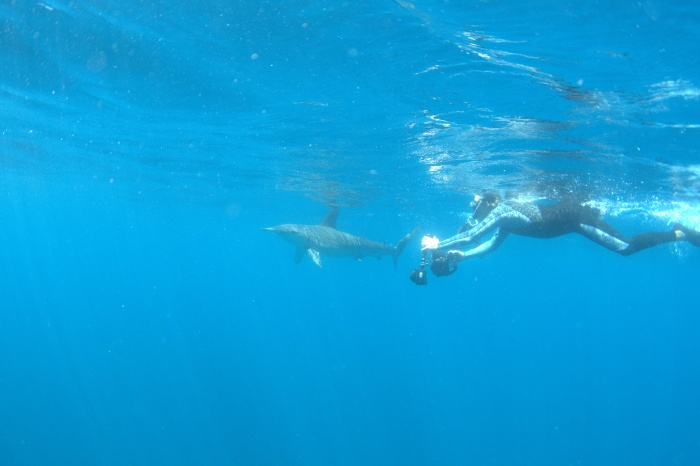Hammer: (229, 191, 421, 286)
